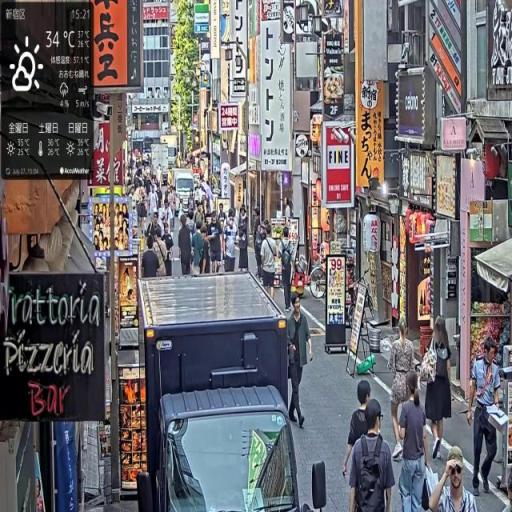person: (467, 336, 501, 499), (347, 401, 396, 512), (397, 367, 431, 512), (421, 315, 454, 460), (388, 318, 420, 464), (285, 292, 318, 429), (344, 378, 387, 481), (428, 446, 476, 512), (257, 222, 282, 303), (279, 227, 300, 313), (139, 238, 161, 295), (179, 216, 195, 277)
